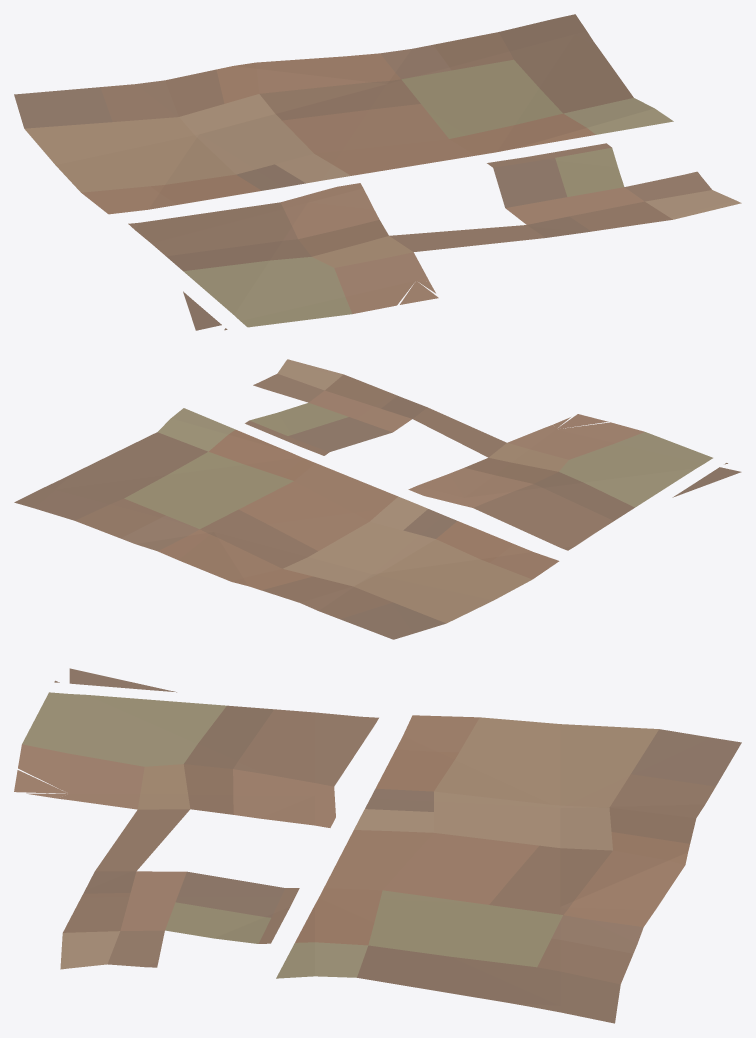
The model's file is farm_17_15_soil.glb.
3 renders of one model, top to bottom at view 1: azimuth 30°, elevation 25°; view 2: azimuth 150°, elevation 25°; view 3: azimuth 270°, elevation 25°, orthographic. The views are drawn at different scales.
Visible parts, largest first — view 1: geometry_0; view 2: geometry_0; view 3: geometry_0.
Boxes of the visible parts, x1,y1,x2,y2 form: geometry_0: (14,14,741,330); geometry_0: (14,359,741,639); geometry_0: (14,668,741,1023).
Size of the model in its own units: 264 by 8.41 by 237.
